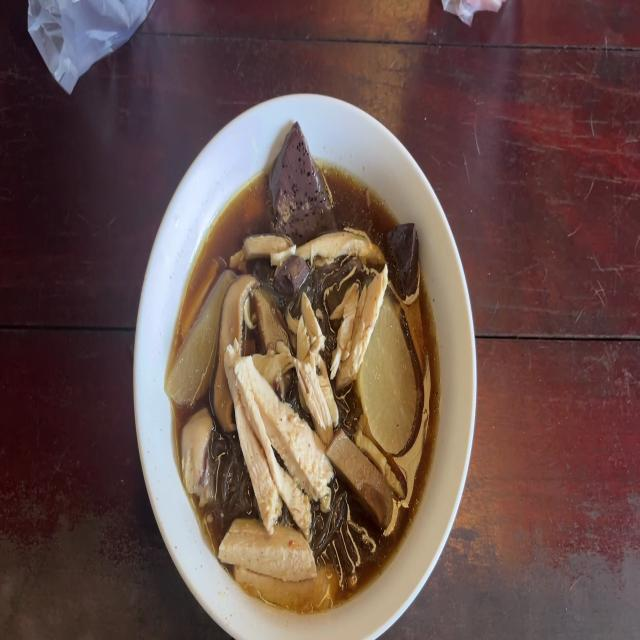noodle: (274, 128, 330, 224), (387, 219, 423, 292), (269, 256, 303, 299)
